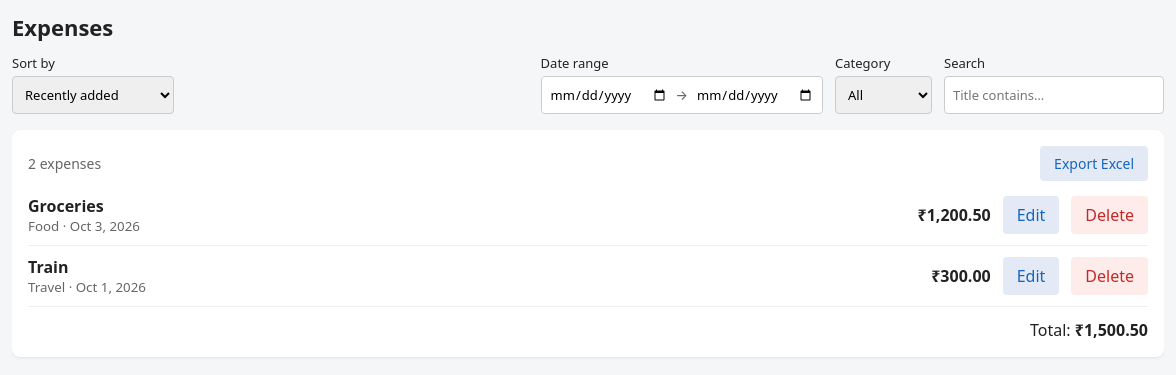
Test case: ExpenseListComponent › with expenses › deletes an expense through the API when the user confirms
Click the button with class "btn-danger" in the row of "Groceries": (1110, 215) [1071,196,1148,234]
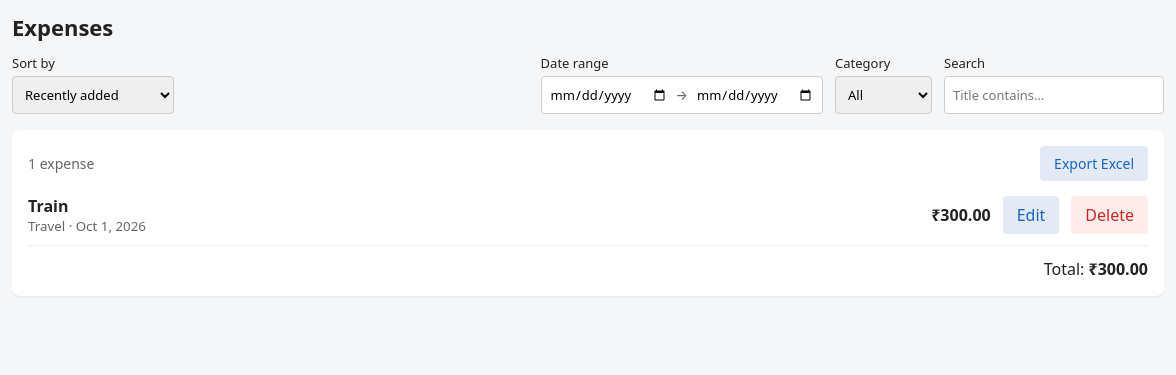
Expected: the element with class "total" shows "300.00", [1088,258,1148,280]
